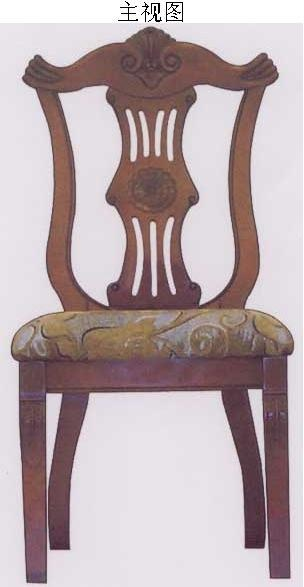obstacle: (12, 27, 292, 582)
